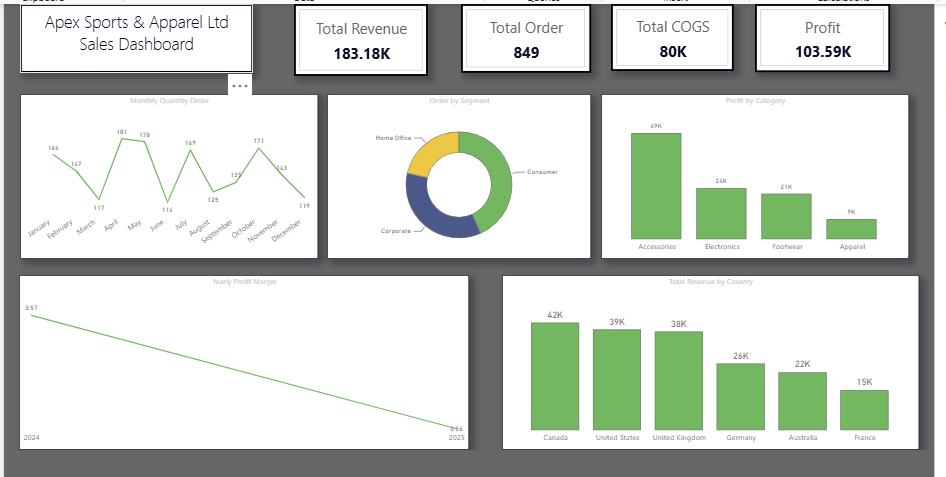

Layout of this report page (visuals, bound fields, positions):
{"tool":"powerbi","page":{"name":"Dashboard","canvas":[1500,720],"ordinal":0},"visuals":[{"type":"cardVisual","fields":{"Data":["Fact_Sales.Total gross revenue"]},"box":[467.7,0,216.1,116.1],"z":0},{"type":"cardVisual","fields":{"Data":["Fact_Sales.Total Order"]},"box":[737.1,0,209.7,111.3],"z":1000},{"type":"clusteredColumnChart","fields":{"Y":["Fact_Sales.Total gross revenue"],"Category":["Dim_Customers.Country"]},"box":[803.2,437.1,672.6,282.3],"z":2000},{"type":"clusteredColumnChart","fields":{"Y":["Fact_Sales.Profit"],"Category":["Dim_Products.Category"]},"box":[962.9,145.2,496.8,266.1],"z":3000},{"type":"lineChart","title":"Monthly Quantity Order","fields":{"Category":["Fact_Sales.Orderdate.Variation.Date Hierarchy.Month"],"Y":["Fact_Sales.Total Quantity"]},"box":[25.8,145.2,480.6,266.1],"z":4000},{"type":"textbox","box":[25.8,0,375.8,111.3],"z":6000},{"type":"lineChart","title":"Yearly Profit Margin","fields":{"Category":["Fact_Sales.Orderdate.Variation.Date Hierarchy.Year"],"Y":["Fact_Sales.Profit margin"]},"box":[24.2,437.1,725.8,282.3],"z":7000},{"type":"cardVisual","fields":{"Data":["Fact_Sales.Profit"]},"box":[1211.3,0,217.7,109.7],"z":8000},{"type":"cardVisual","fields":{"Data":["Fact_Sales.Total COGS"]},"box":[979,0,198.4,108.1],"z":9000},{"type":"donutChart","title":"Order by Segment","fields":{"Y":["Fact_Sales.Total Order"],"Category":["Dim_Customers.Segment"]},"box":[521,145.2,425.8,266.1],"z":10000}]}

Visuals, with their boxes in screenshot pixels (x1, y1, x2, y2):
cardVisual - Fact_Sales.Total gross revenue: pyautogui.locateOnScreen(291, 0, 425, 72)
cardVisual - Fact_Sales.Total Order: pyautogui.locateOnScreen(458, 0, 589, 69)
clusteredColumnChart - Fact_Sales.Total gross revenue x Dim_Customers.Country: pyautogui.locateOnScreen(500, 272, 918, 447)
clusteredColumnChart - Fact_Sales.Profit x Dim_Products.Category: pyautogui.locateOnScreen(599, 90, 908, 256)
"Monthly Quantity Order" lineChart: pyautogui.locateOnScreen(16, 90, 315, 256)
textbox: pyautogui.locateOnScreen(16, 0, 250, 69)
"Yearly Profit Margin" lineChart: pyautogui.locateOnScreen(15, 272, 466, 447)
cardVisual - Fact_Sales.Profit: pyautogui.locateOnScreen(753, 0, 889, 68)
cardVisual - Fact_Sales.Total COGS: pyautogui.locateOnScreen(609, 0, 732, 67)
"Order by Segment" donutChart: pyautogui.locateOnScreen(324, 90, 589, 256)
